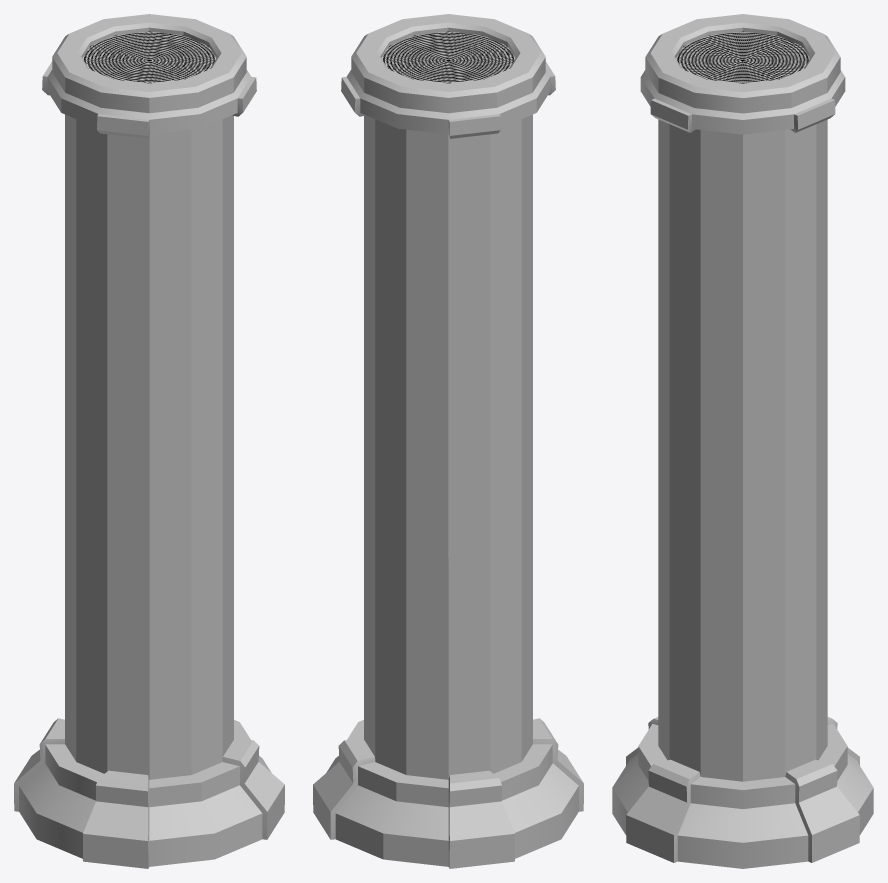
File: Lamp_Standing_01.FBX
3 renders of one model, left to right at view 1: azimuth 30°, elevation 25°; view 2: azimuth 150°, elevation 25°; view 3: azimuth 270°, elevation 25°, orthographic.
Visible parts, largest first — view 1: Lamp_Standing_01_LOD0; view 2: Lamp_Standing_01_LOD0; view 3: Lamp_Standing_01_LOD0.
Boxes of the visible parts, x1,y1,x2,y2 form: Lamp_Standing_01_LOD0: (14,14,284,868); Lamp_Standing_01_LOD0: (313,14,583,868); Lamp_Standing_01_LOD0: (612,14,873,868).
Size of what is drawn, in the model's own units: 72 by 231 by 72.
